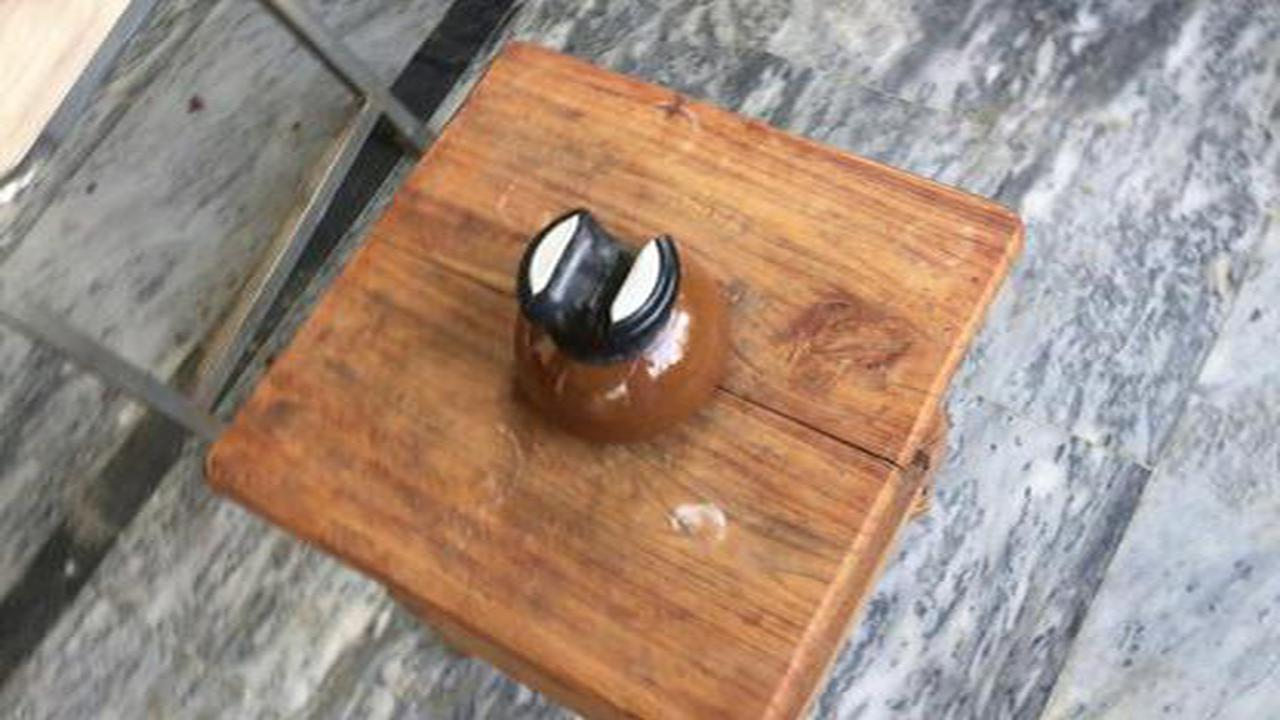insulator_pin: (493, 193, 757, 459)
